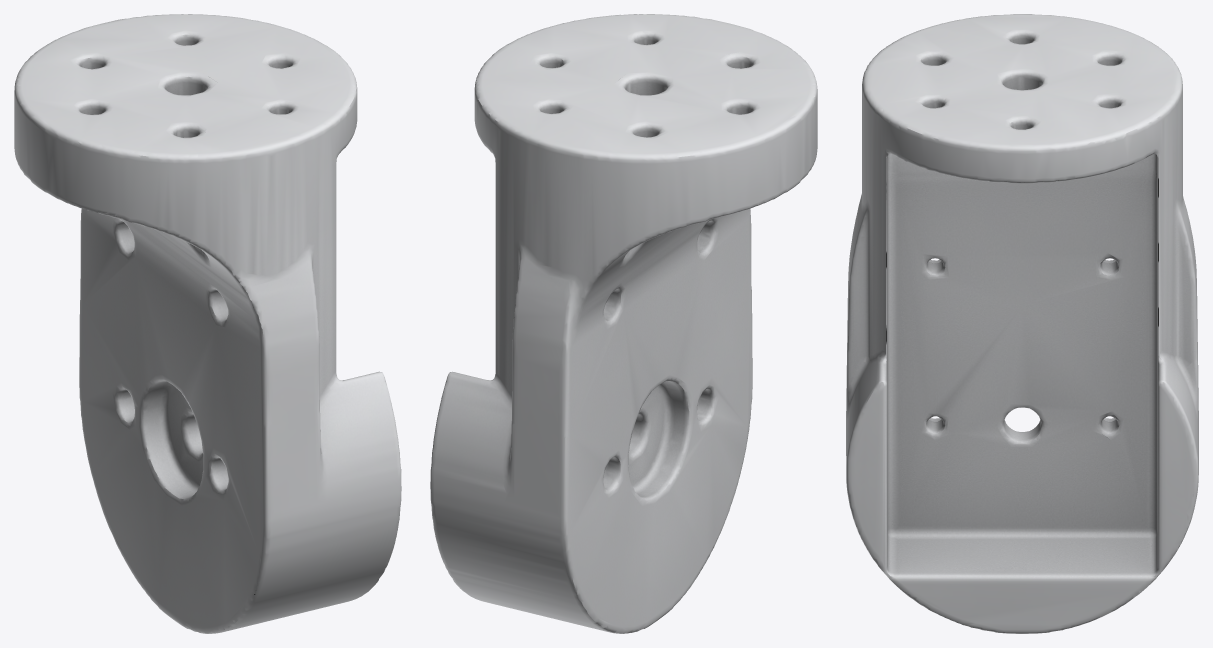
Rendered from left_shoulder.obj.
3 renders of one model, left to right at view 1: azimuth 30°, elevation 25°; view 2: azimuth 150°, elevation 25°; view 3: azimuth 270°, elevation 25°, orthographic. The views are drawn at different scales.
Visible parts, largest first — view 1: left_shoulder; view 2: left_shoulder; view 3: left_shoulder.
Part boxes in pixels (left/top/right/bottom): left_shoulder: left=14, top=14, right=401, bottom=633; left_shoulder: left=430, top=14, right=817, bottom=633; left_shoulder: left=846, top=14, right=1198, bottom=633.
Bounding box in the file's own units: 0.0615 × 0.1057 × 0.0677.
Materials: 1 (1 with a texture image).
